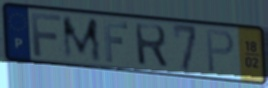7: (171, 22, 199, 75)
F: (29, 11, 63, 58), (102, 18, 130, 64)
M: (60, 16, 104, 64)
P: (205, 28, 236, 75)
R: (133, 22, 170, 71)
